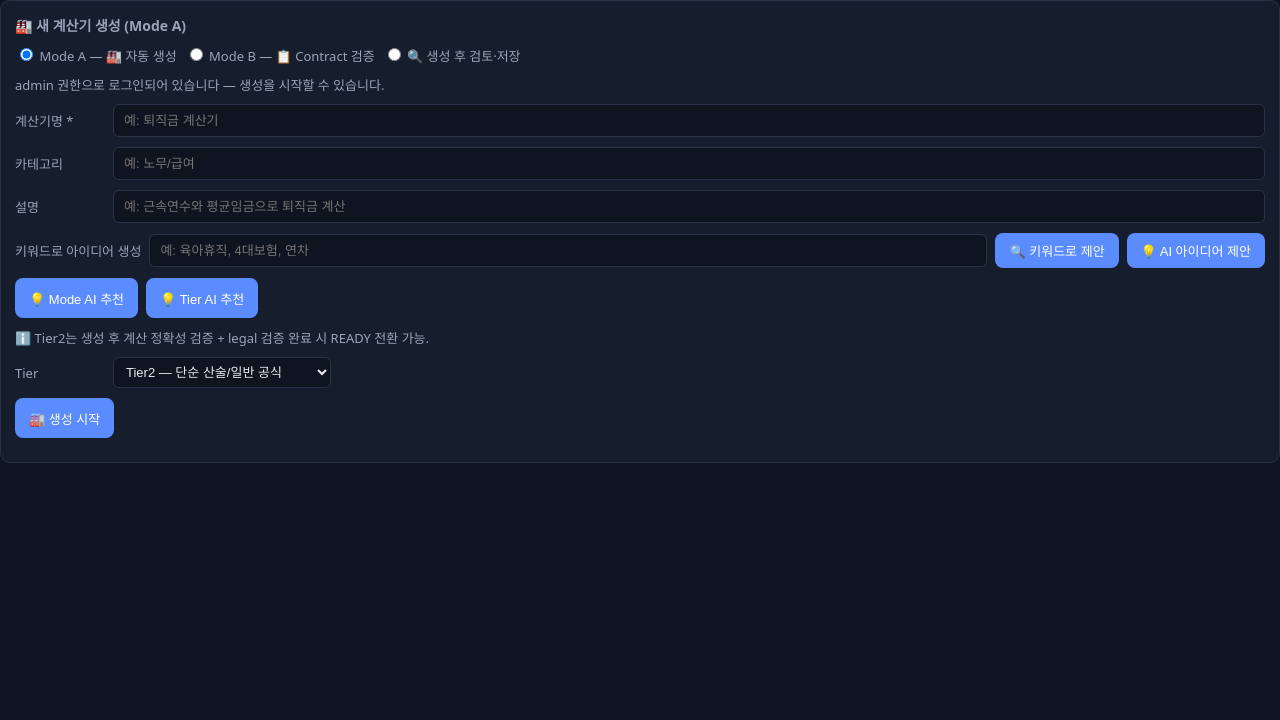
Scenario: Mode A 생성 후 검토·저장 › preview shows review fields, prefills slug and checks conflict without saving
The image size is (1280, 720).
Click the radio button labelled "🔍 생성 후 검토·저장".
click(394, 54)  # box [388, 48, 401, 61]
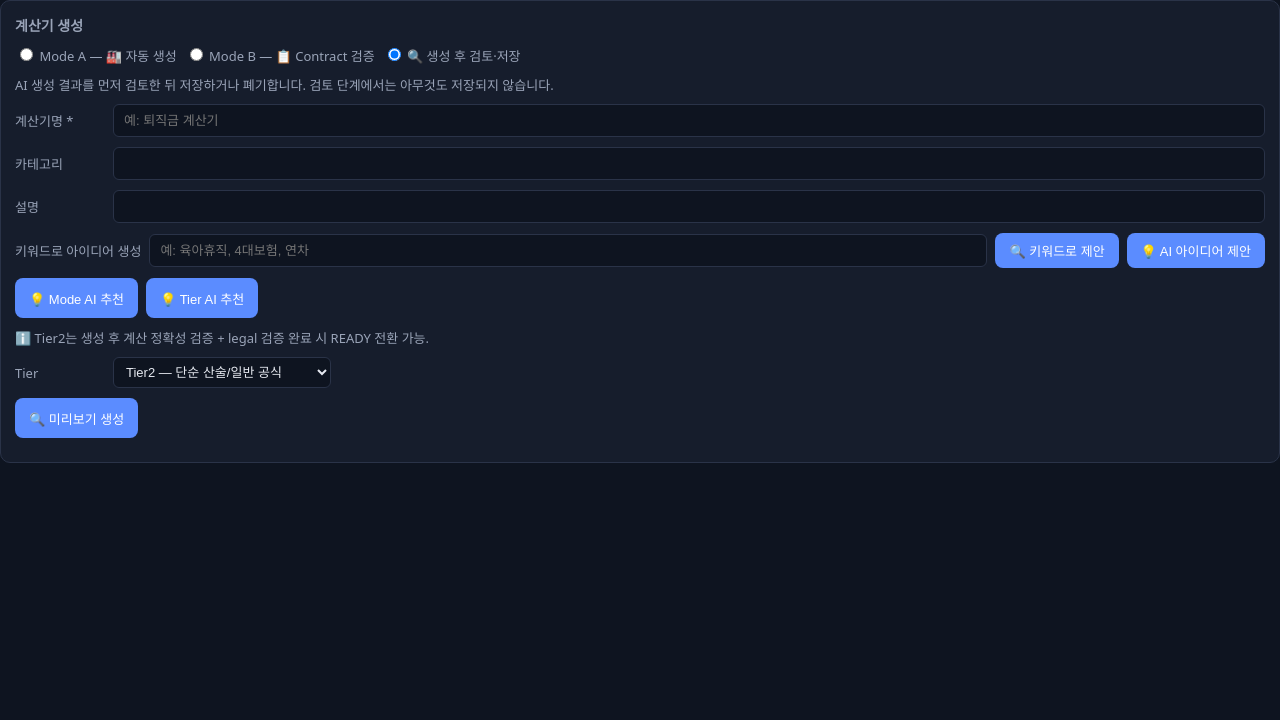
Type "퇴직금 계산기" into the field labelled "계산기명 *".
click(689, 120); type("퇴직금 계산기")  # box [113, 104, 1265, 137]
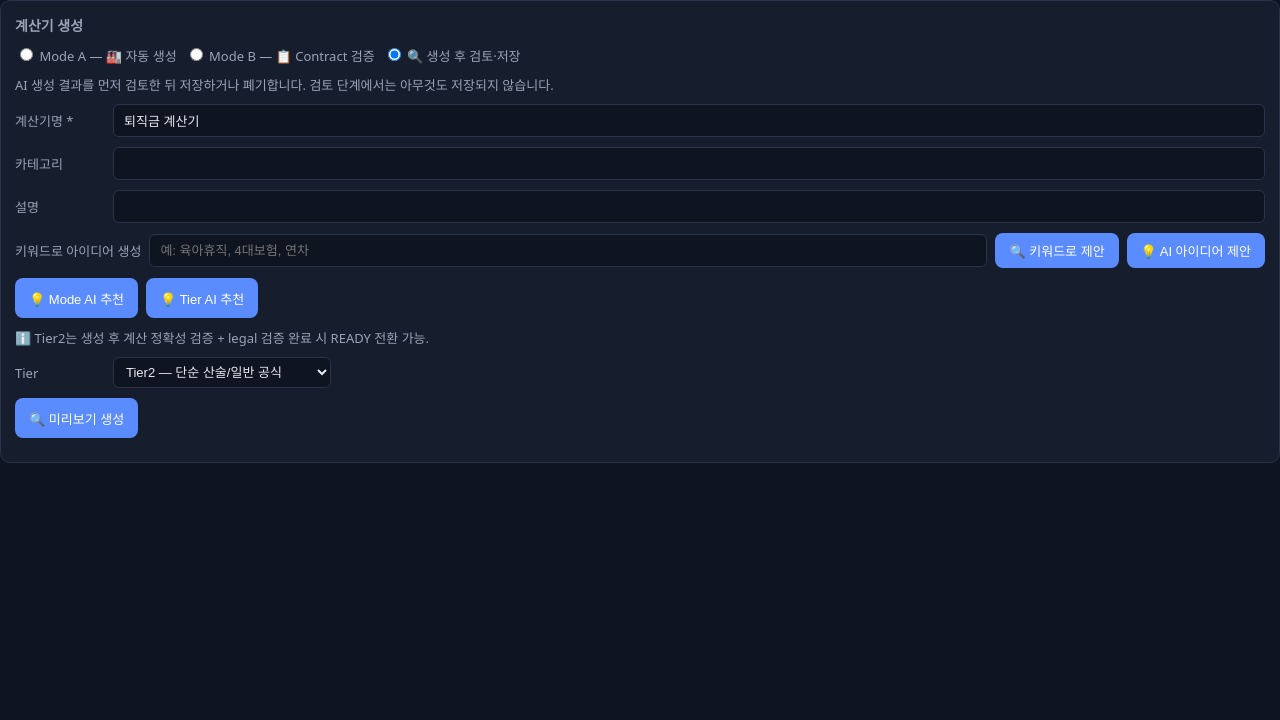
Click the button "🔍 미리보기 생성".
click(77, 418)  # box [15, 398, 138, 438]
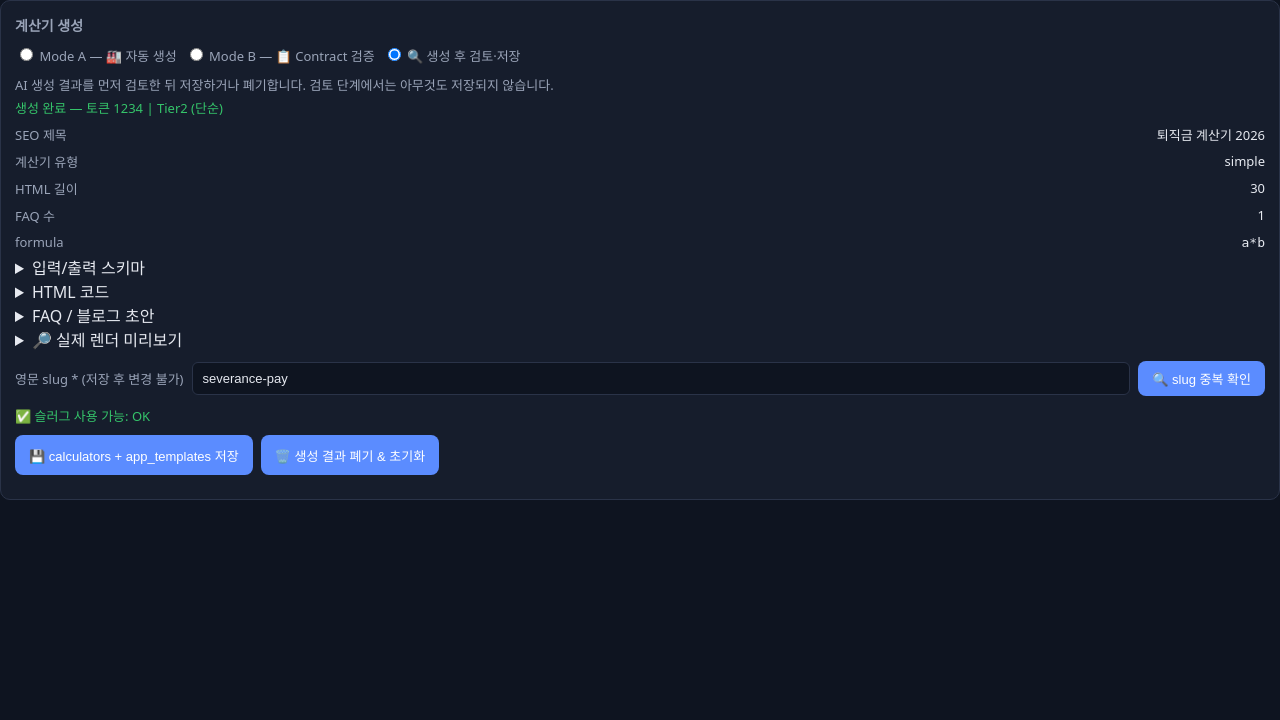
Check: the element with test id "mode-a-preview" is shown, box [15, 98, 1265, 475]
Check: the text "퇴직금 계산기 2026" is shown, box [1157, 125, 1265, 144]
Check: the text "a*b" is shown, box [1242, 235, 1265, 250]
